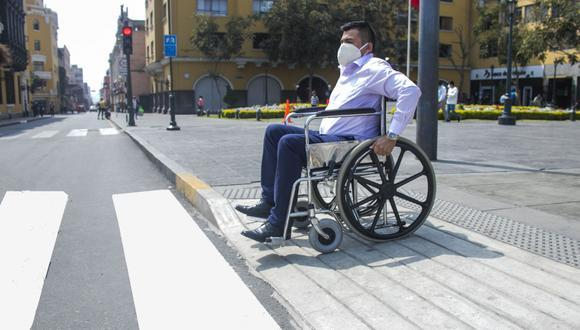wheelchair: (234, 20, 436, 253)
